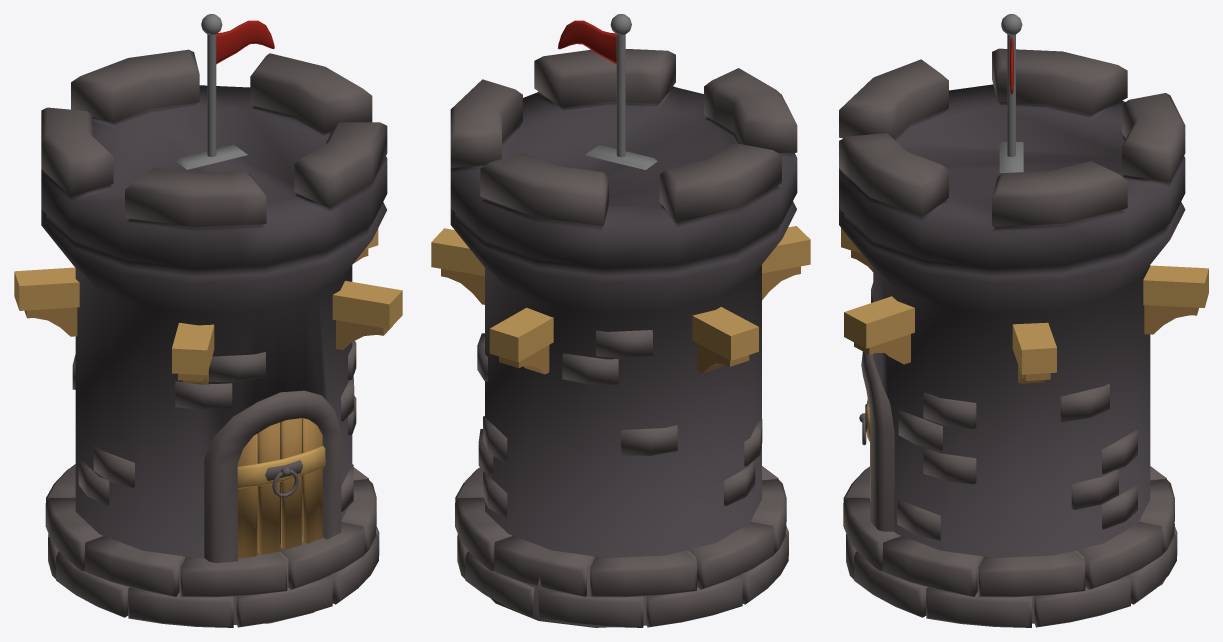
Rendered from Tower.glb.
3 renders of one model, left to right at view 1: azimuth 30°, elevation 25°; view 2: azimuth 150°, elevation 25°; view 3: azimuth 270°, elevation 25°, orthographic.
Parts seen in each view (by area): view 1: Tower, Tower_Door; view 2: Tower; view 3: Tower.
Part boxes in pixels (bbox=[...]): Tower: bbox=[14, 14, 402, 627]; Tower_Door: bbox=[237, 418, 325, 558]; Tower: bbox=[431, 14, 810, 627]; Tower: bbox=[839, 14, 1208, 627].
Size of the model in its own units: 9.44 by 14.6 by 8.98.
